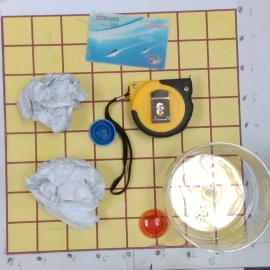card: (87, 11, 171, 71)
